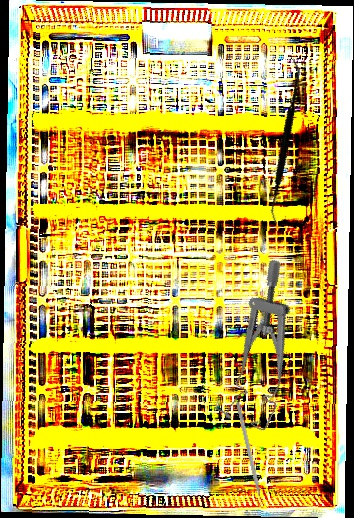Chopper: (229, 400, 266, 514)
Spatula Surgical: (216, 57, 352, 226)
Speculum: (200, 257, 333, 436)
